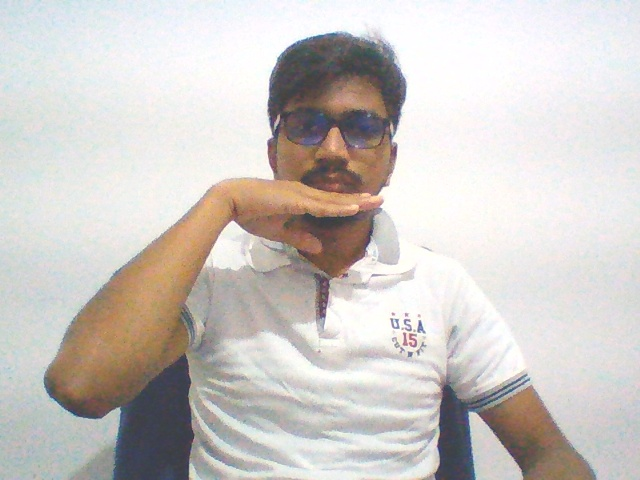elephant: (206, 166, 397, 257)
